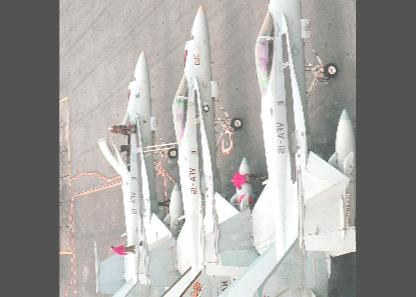F15: (211, 0, 356, 296), (142, 2, 255, 296), (93, 49, 185, 296)
